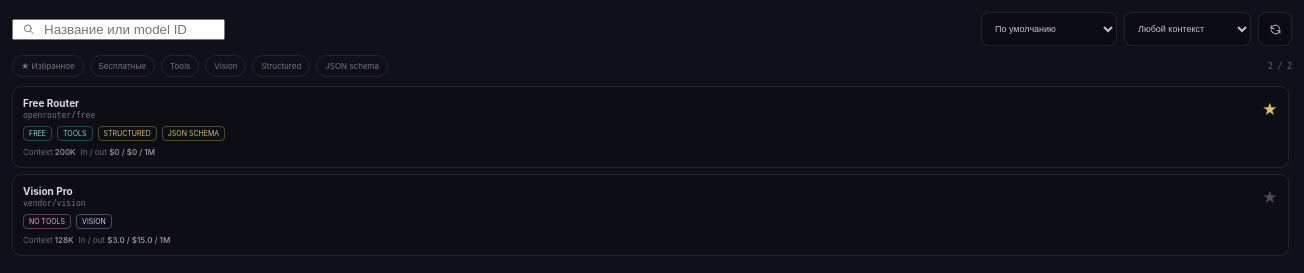
Scenario: OpenAIModelPicker › filters by capability badges and minimum context without fabricating performance metrics
Click the button "Vision".
click(226, 66)  # box 205,55 -> 246,77
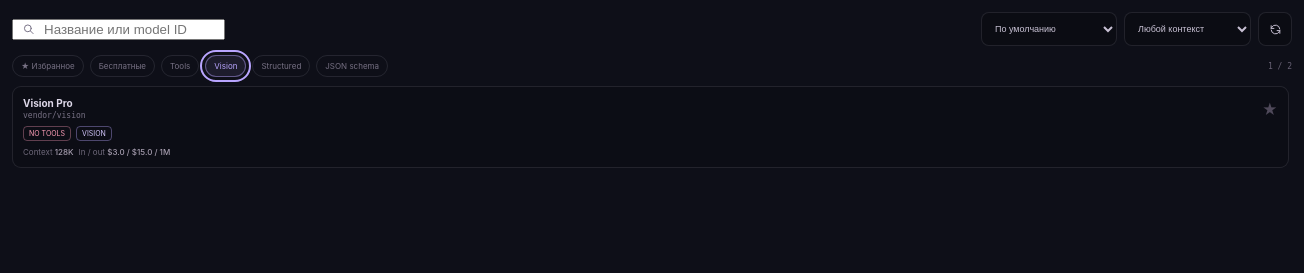
Expected: the option "Vision Pro" is shown, 12,86 -> 1289,168
Now the button "Free Router" is gone
Click the button "Vision".
click(226, 66)  # box 205,55 -> 246,77
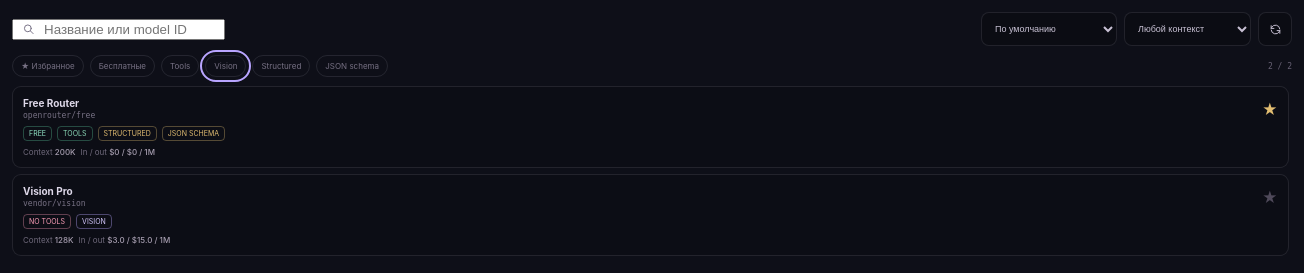
Click the button "Structured".
click(281, 66)  # box 252,55 -> 310,77
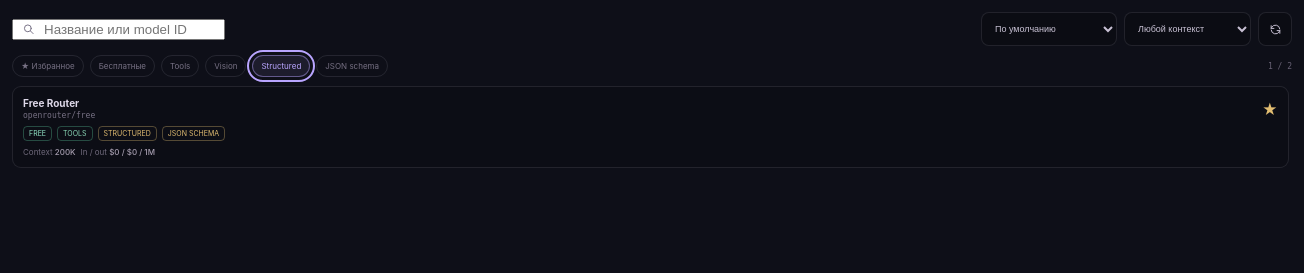
Now the option "Free Router" is shown, box 12,86 -> 1289,168
Now the text "STRUCTURED" is shown, box 98,126 -> 157,141
Now the button "Vision Pro" is gone
Click the button "Structured".
click(281, 66)  # box 252,55 -> 310,77
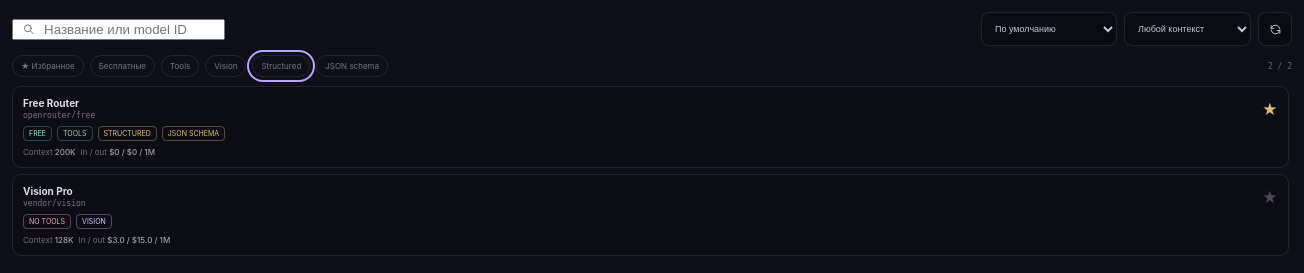
Select "Контекст от 200K" in the dropdown named "Минимальный размер контекста" at (1188, 29), box 1124,12 -> 1251,46
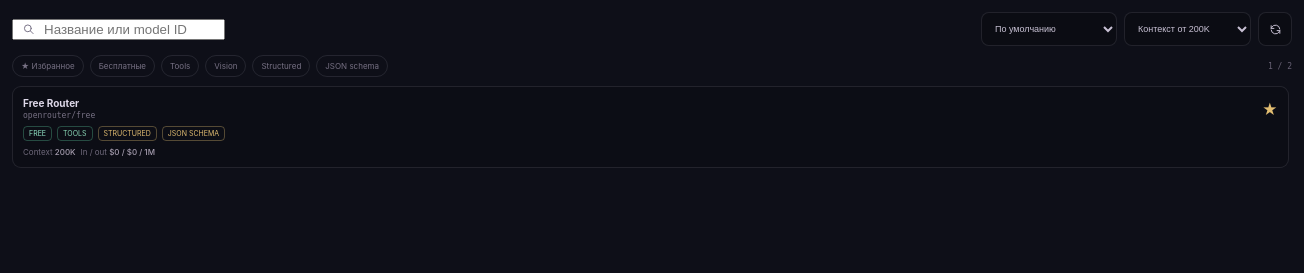
Now the option "Free Router" is shown, box 12,86 -> 1289,168
Now the button "Vision Pro" is gone
Select "Контекст от 1M" in the dropdown named "Минимальный размер контекста" at (1188, 29), box 1124,12 -> 1251,46
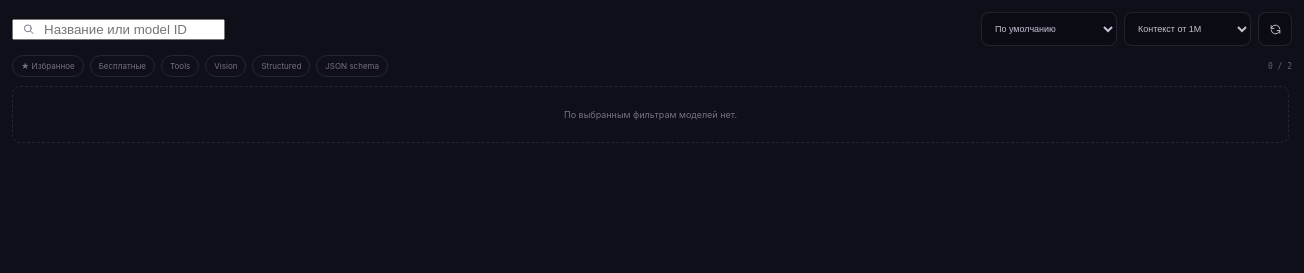
Now the text "По выбранным фильтрам моделей нет." is shown, box 12,86 -> 1289,143
